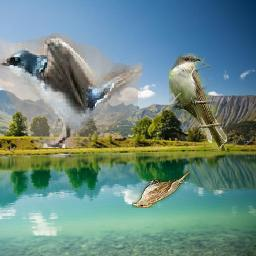Cuckoo: (169, 53, 227, 151)
Sparrow: (132, 172, 190, 209)
Swallow: (1, 34, 144, 149)
